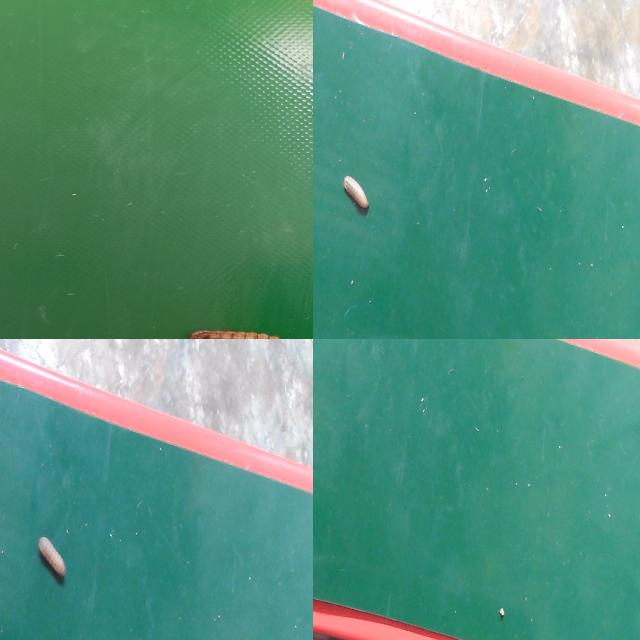Maggot: (37, 536, 69, 586), (343, 176, 371, 215), (187, 330, 283, 339)
